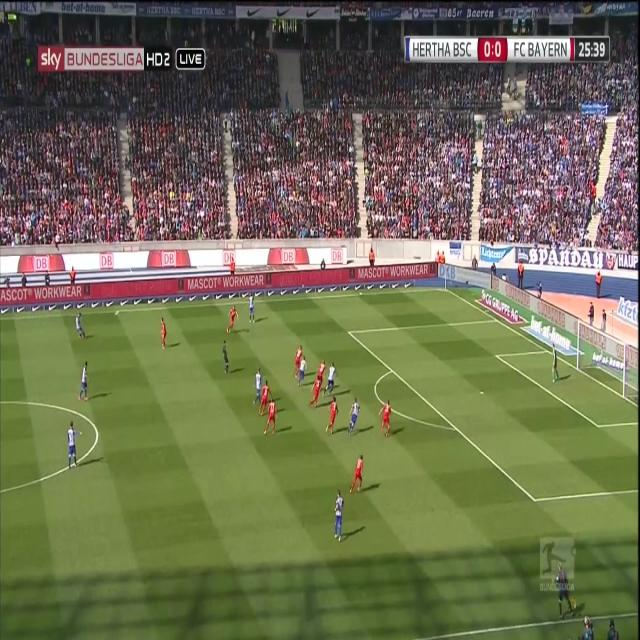Ball: (113, 307, 120, 319)
Goalkeeper: (550, 342, 563, 388)
Player: (347, 451, 367, 496), (65, 418, 82, 468), (320, 357, 340, 399), (377, 397, 394, 440), (325, 394, 341, 439), (333, 487, 345, 545), (306, 372, 324, 410), (263, 398, 280, 437), (249, 364, 264, 408), (346, 393, 360, 439), (77, 360, 91, 404), (256, 379, 271, 420), (225, 303, 242, 337), (296, 353, 309, 393), (290, 341, 304, 377), (74, 310, 87, 343), (247, 290, 257, 327), (159, 316, 168, 356), (316, 356, 328, 381)
Referee: (220, 338, 231, 380)
